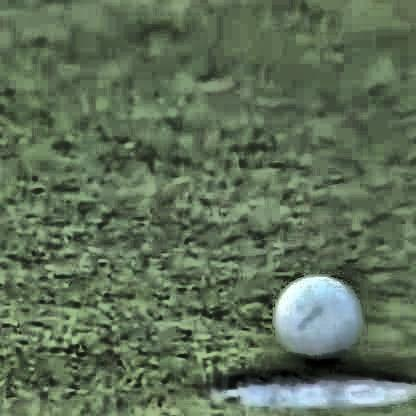golfball: (270, 270, 358, 358)
